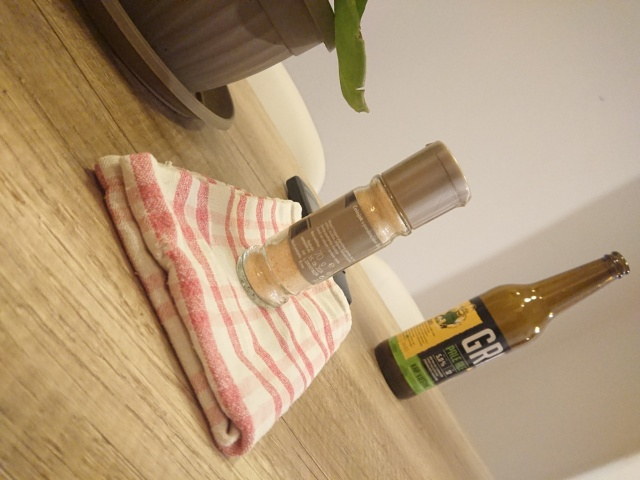Kotanyi Garlic Granules 70g: (233, 138, 474, 313)
